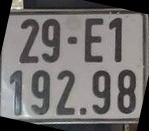-: (68, 37, 77, 44)
.: (80, 108, 87, 115)
1: (10, 71, 22, 115), (110, 18, 121, 62)
2: (20, 20, 38, 63), (58, 71, 75, 114)
8: (118, 70, 136, 113)
9: (32, 70, 50, 113), (42, 19, 60, 62), (92, 70, 110, 113)
E: (85, 18, 103, 62)
